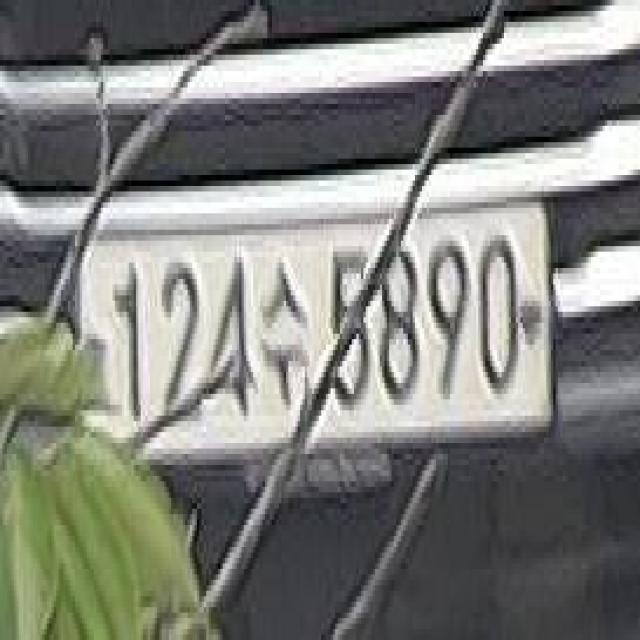illegal_plate: (57, 187, 563, 501)
